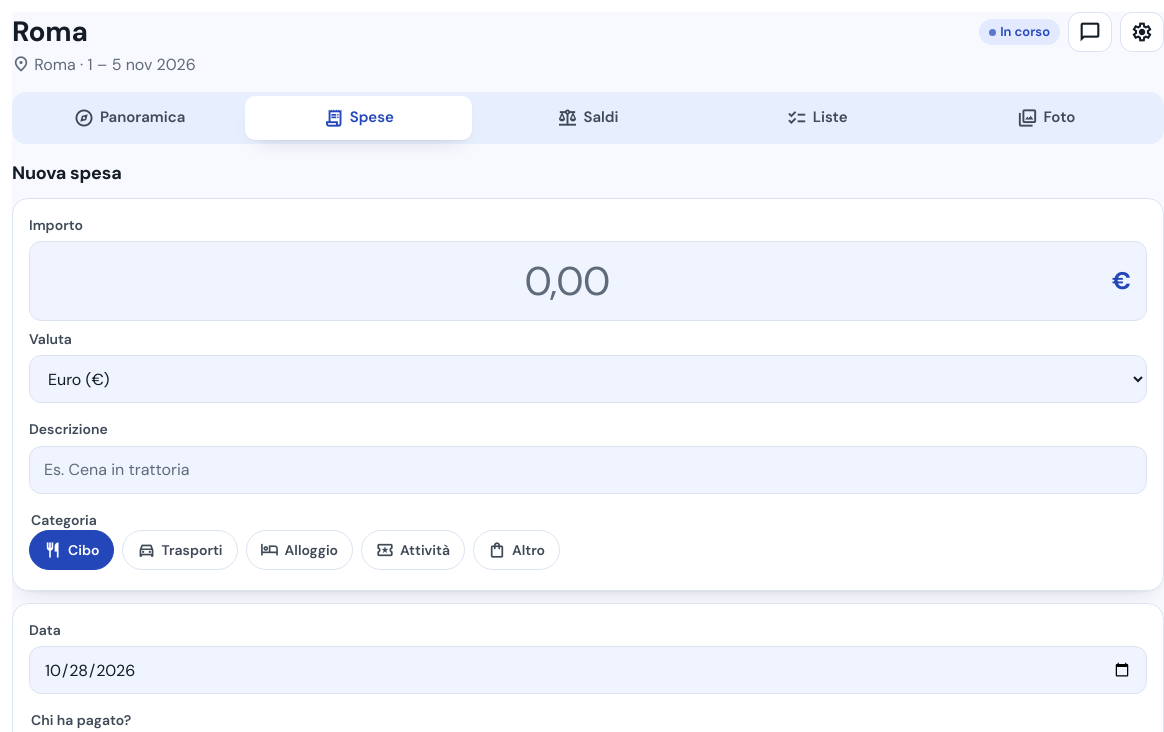
Test: ExpenseFormPage › nell'importo entrano solo cifre, una virgola, due decimali e sei cifre intere
Type "12a,345" into the field labelled "Importo" at x=588, y=281, box [29, 241, 1147, 321]
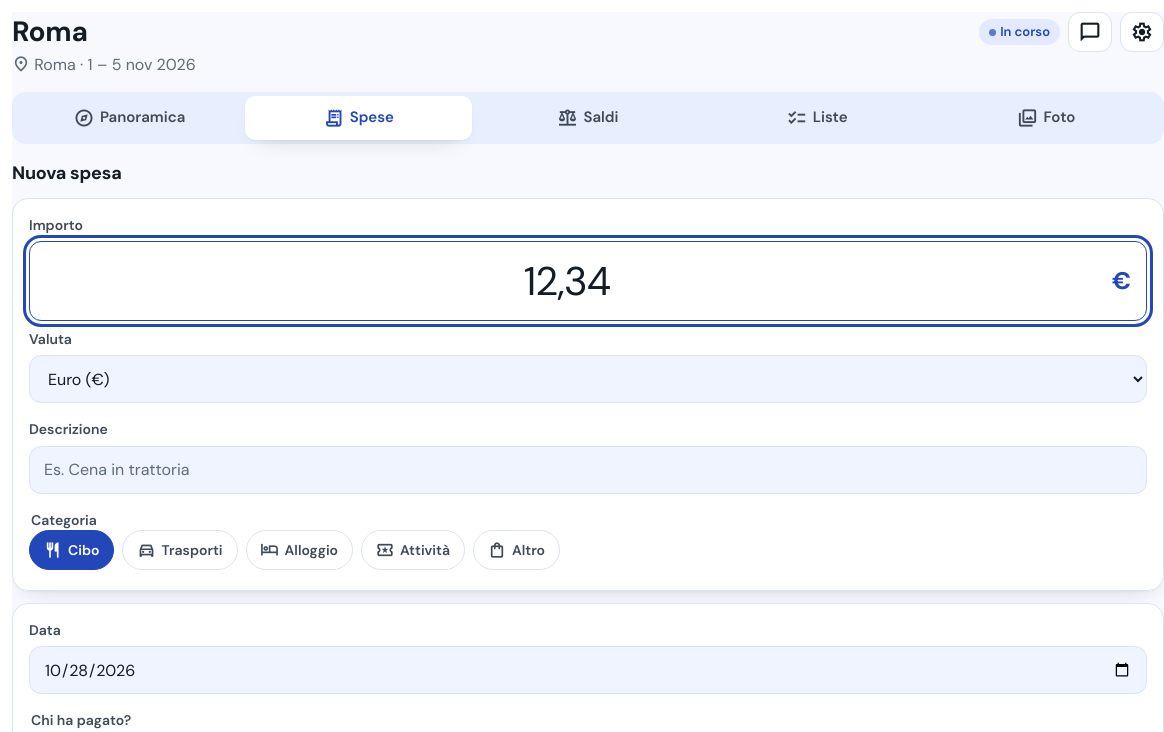
Check: the field labelled "Importo" holds "12,34"
Replace the text in the field labelled "Importo" with "12345678" at x=588, y=281, box [29, 241, 1147, 321]
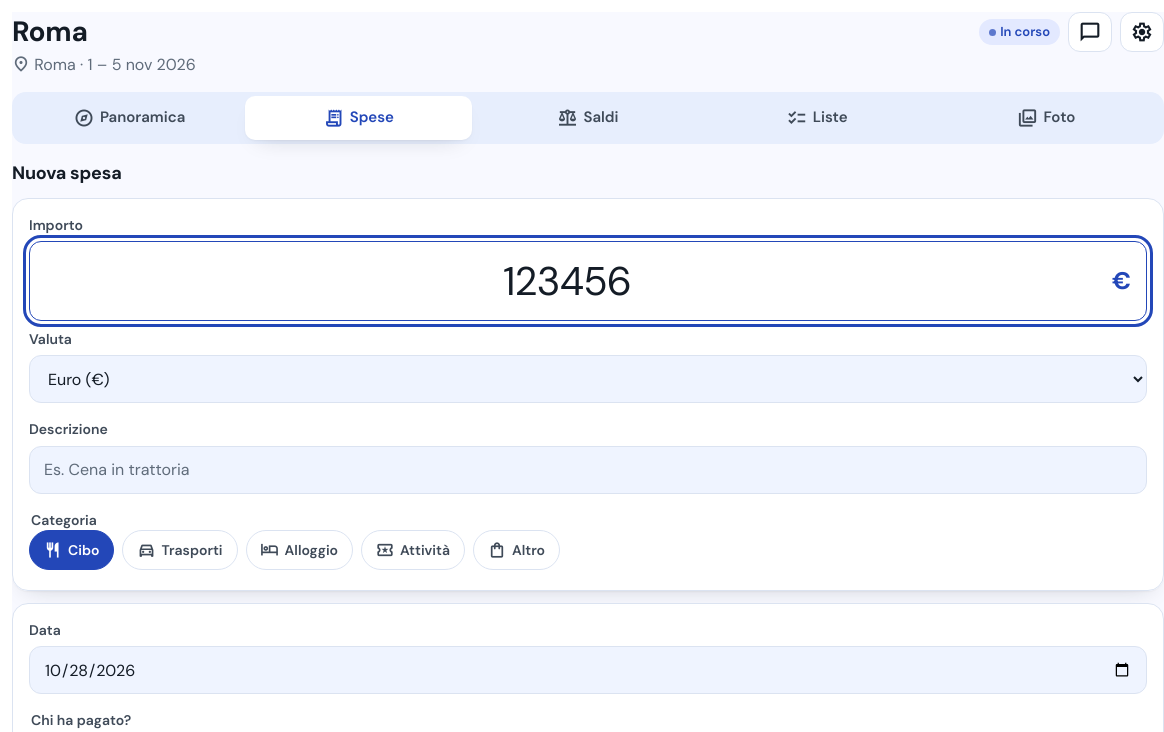
Check: the field labelled "Importo" holds "123456", box [29, 241, 1147, 321]
